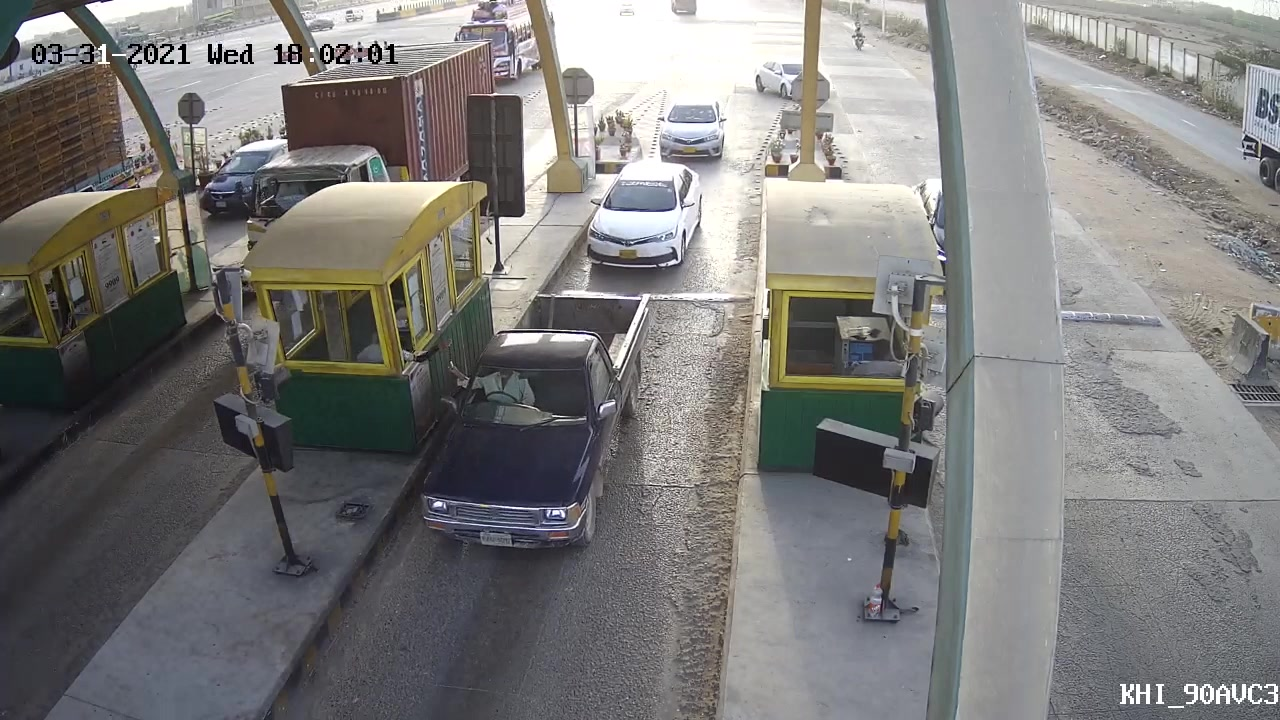F1: (402, 281, 658, 559), (577, 154, 708, 277)
